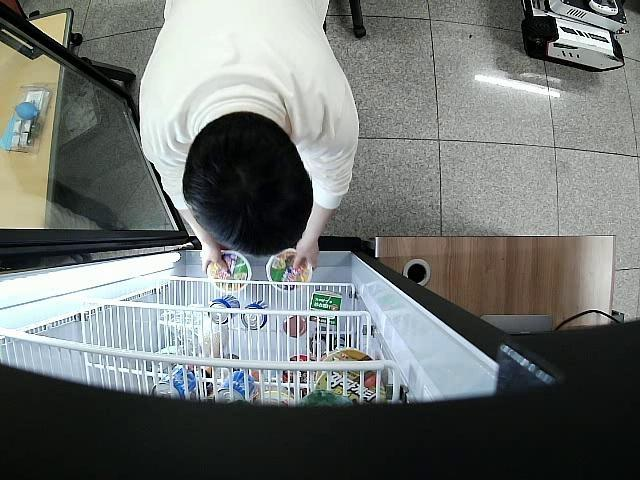09_yukGaeJang: (267, 248, 312, 293), (207, 251, 252, 294)
